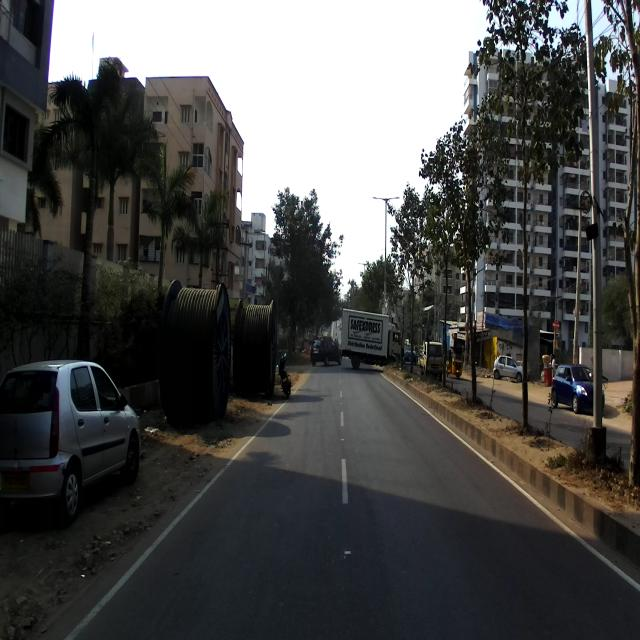car ahead at: (7, 360, 143, 532)
